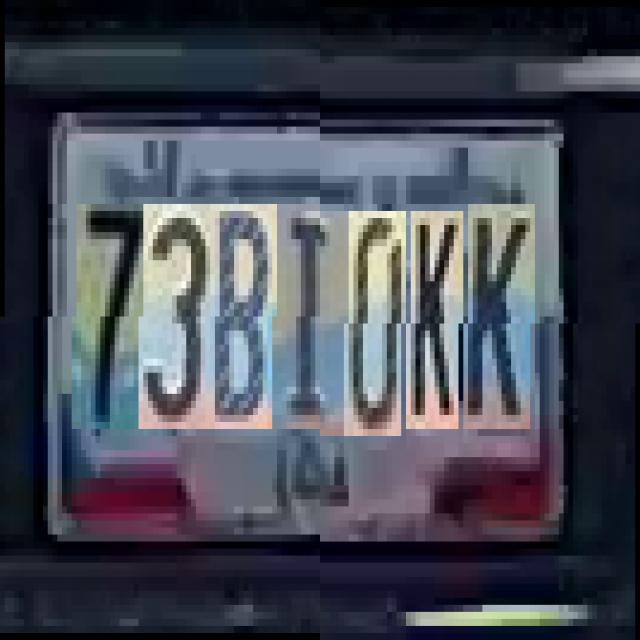0: (348, 211, 406, 436)
3: (143, 211, 210, 436)
7: (76, 211, 144, 436)
B: (210, 211, 277, 436)
I: (277, 211, 349, 436)
K: (468, 204, 535, 429), (411, 211, 464, 429)
